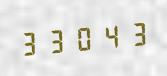four: (96, 18, 121, 52)
three: (18, 25, 43, 59), (44, 23, 69, 57), (122, 16, 147, 50)
zero: (70, 21, 95, 54)
